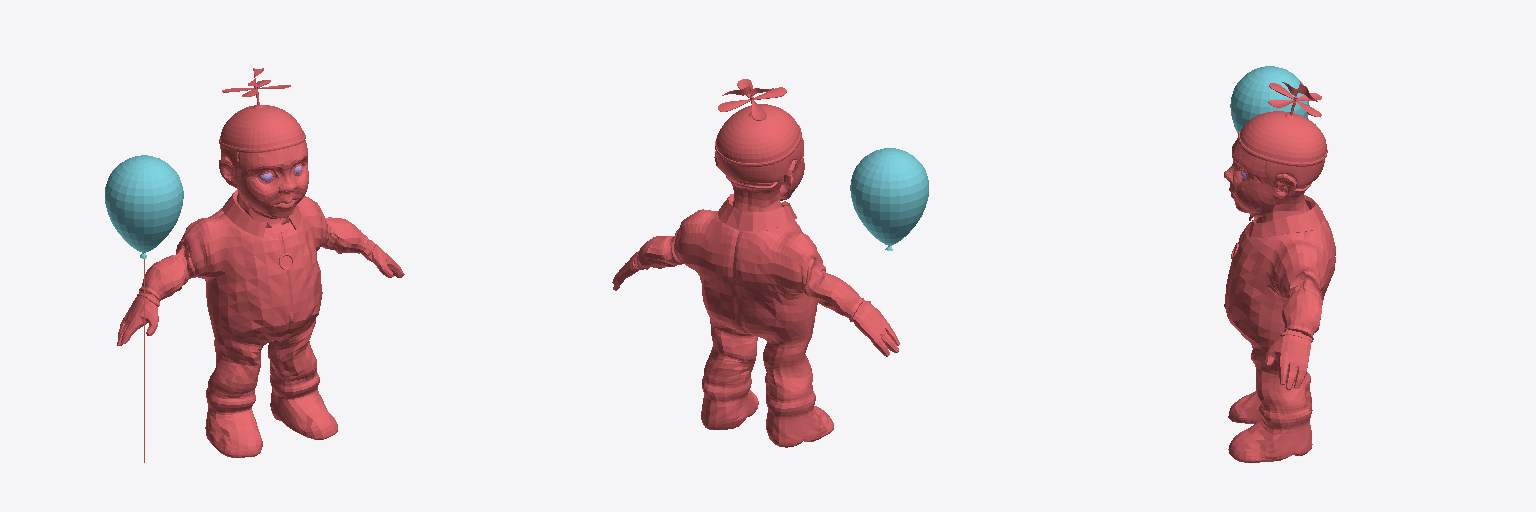
Rendered from balloonboy.obj.
3 views of the same model, side by side, from view 1: azimuth 30°, elevation 25°; view 2: azimuth 150°, elevation 25°; view 3: azimuth 270°, elevation 25° (orthographic).
Visible parts, largest first — view 1: Body.smd, Balloon.smd; view 2: Body.smd, Balloon.smd; view 3: Body.smd, Balloon.smd.
Part boxes in pixels (left/top/right/bottom): Body.smd: left=117, top=68, right=404, bottom=457; Balloon.smd: left=105, top=155, right=183, bottom=462; Body.smd: left=612, top=79, right=899, bottom=447; Balloon.smd: left=850, top=148, right=928, bottom=250; Body.smd: left=1224, top=81, right=1335, bottom=462; Balloon.smd: left=1230, top=66, right=1309, bottom=132.
Size of the model in its own units: 0.6388 by 0.7204 by 0.2062.